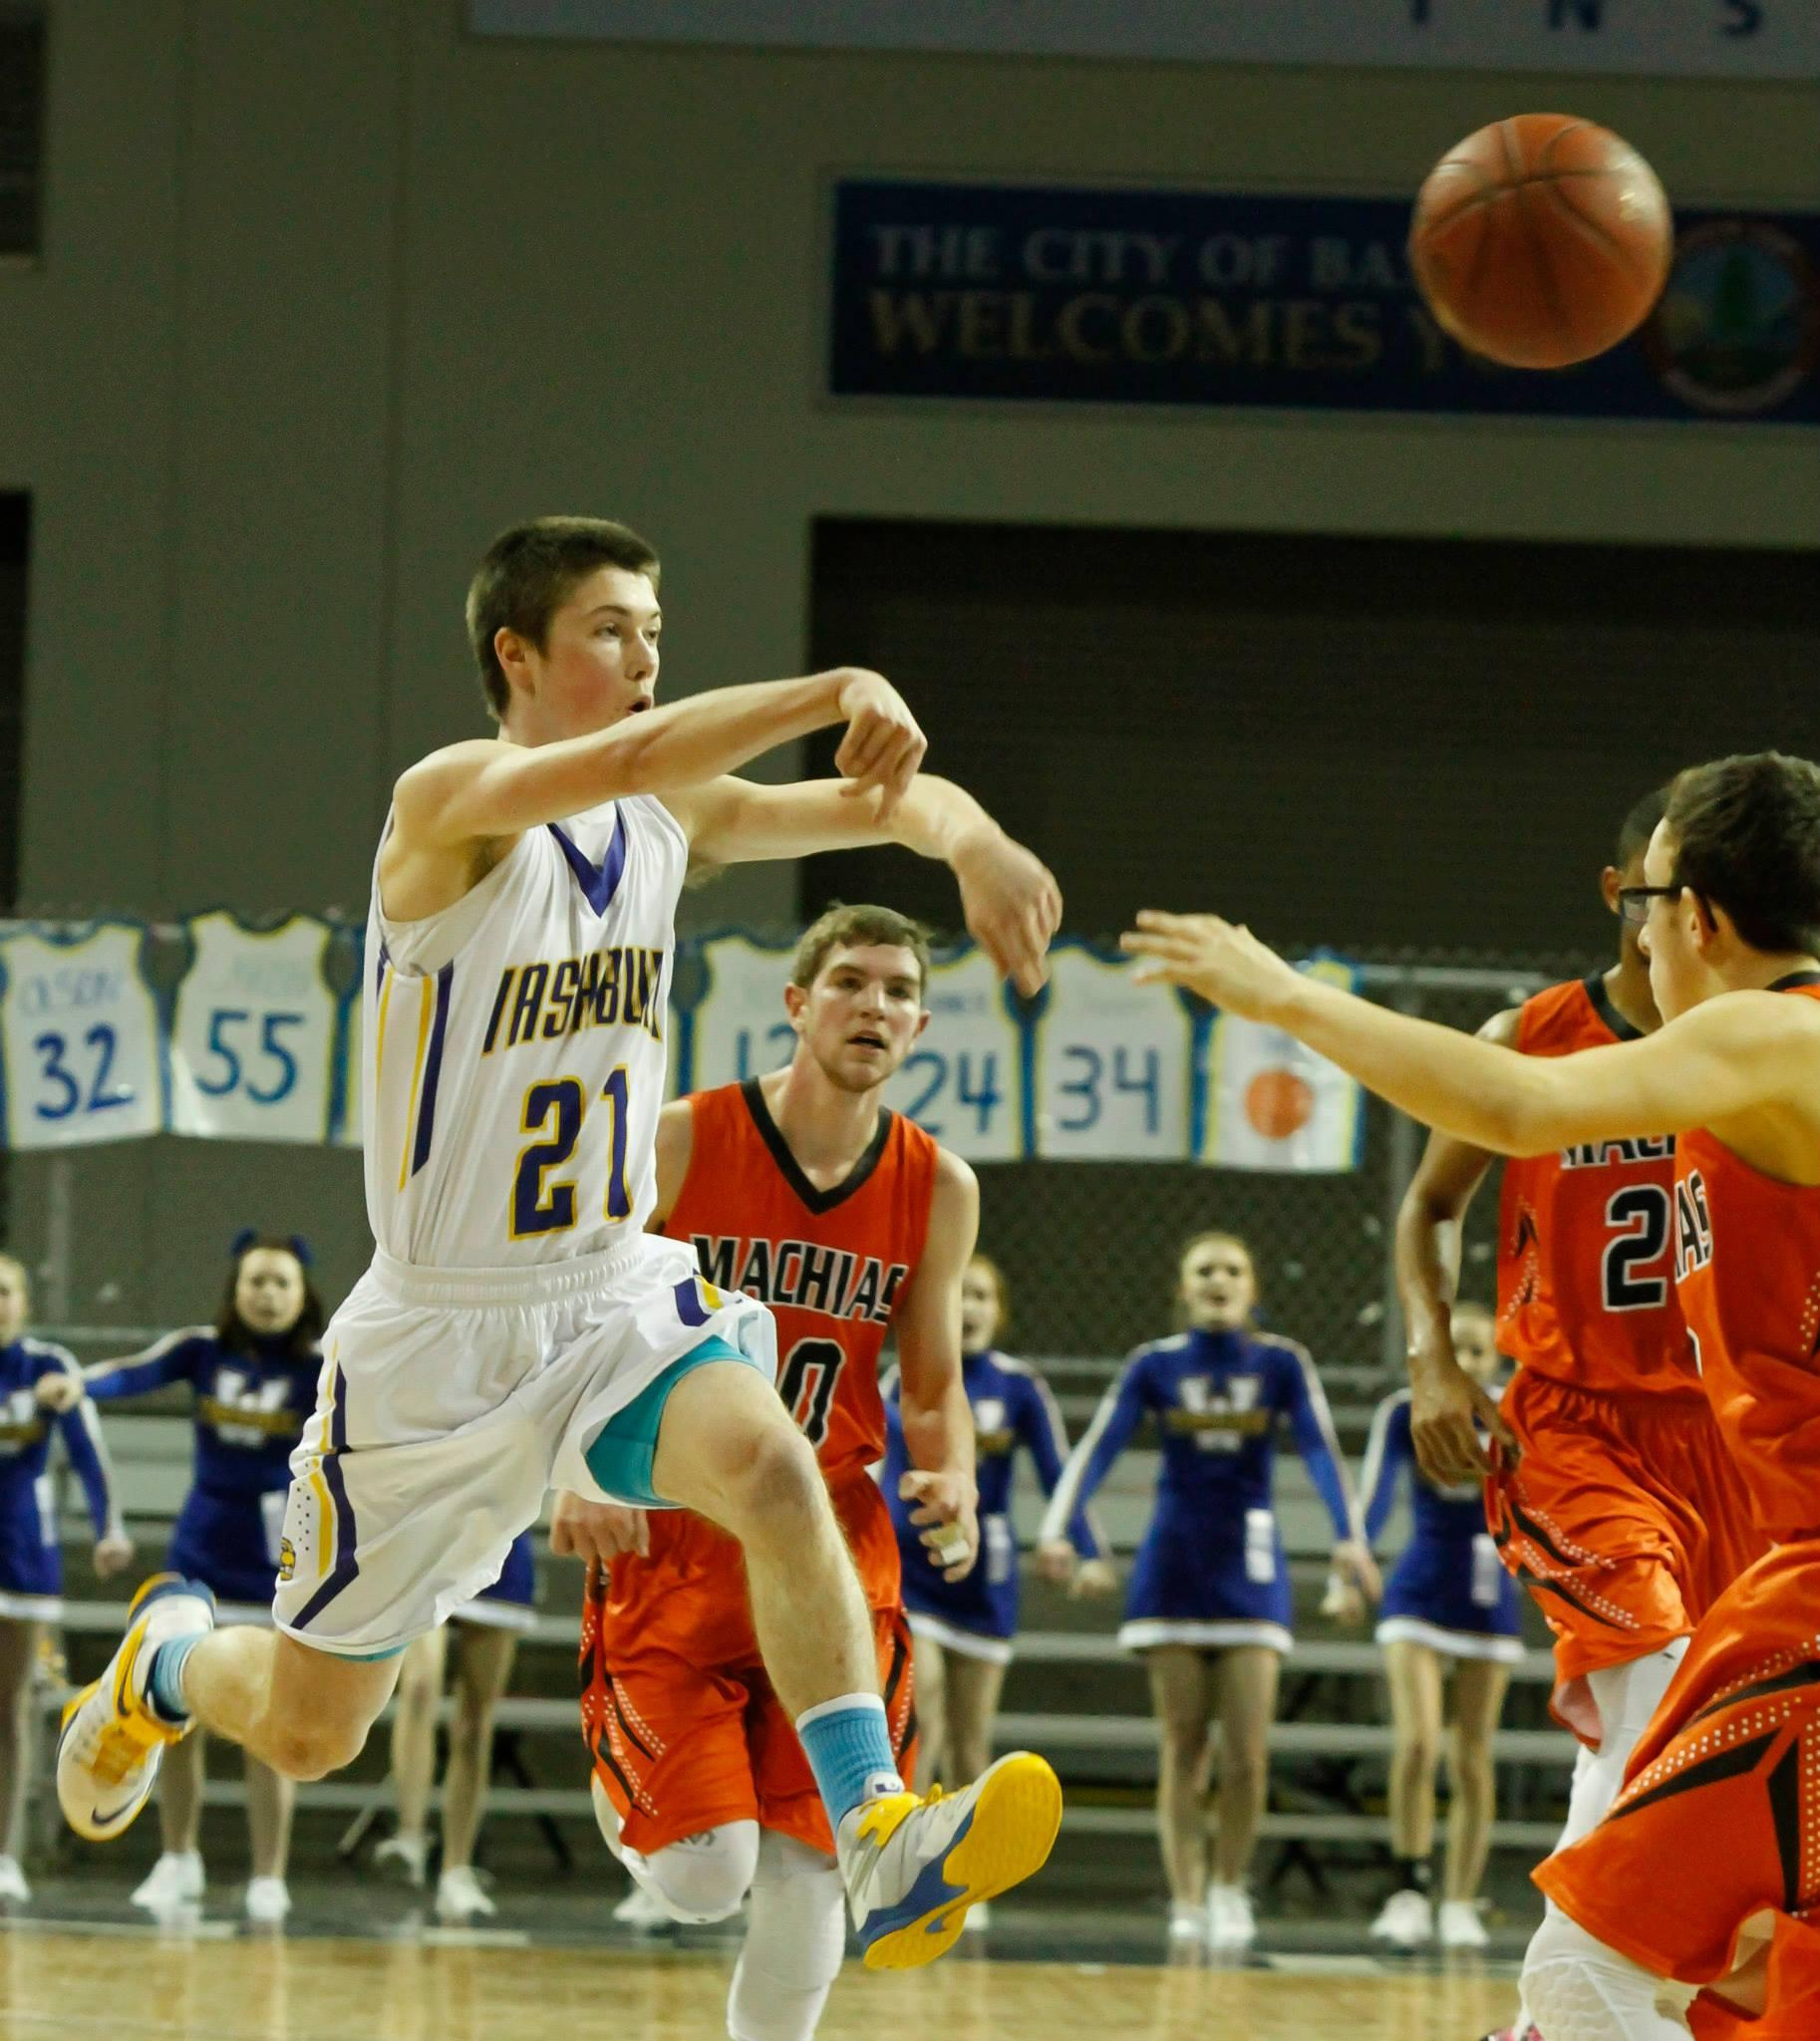basketball: (1389, 119, 1691, 371)
basketball player: (319, 475, 783, 1858), (1347, 759, 1820, 2041), (725, 898, 998, 1552)
